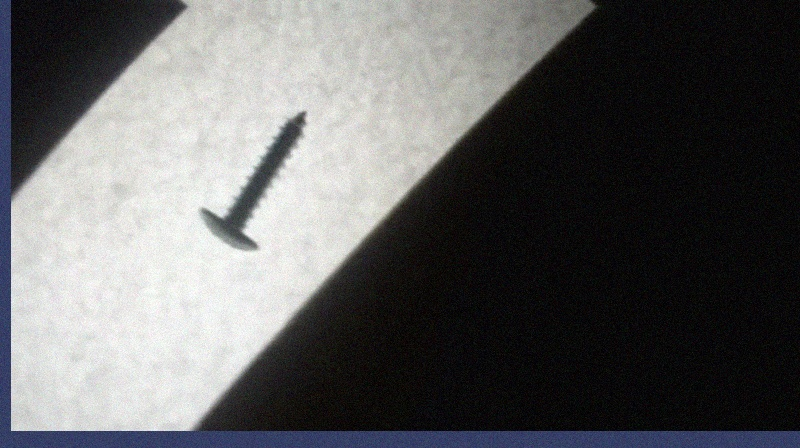S003: (196, 105, 310, 254)
